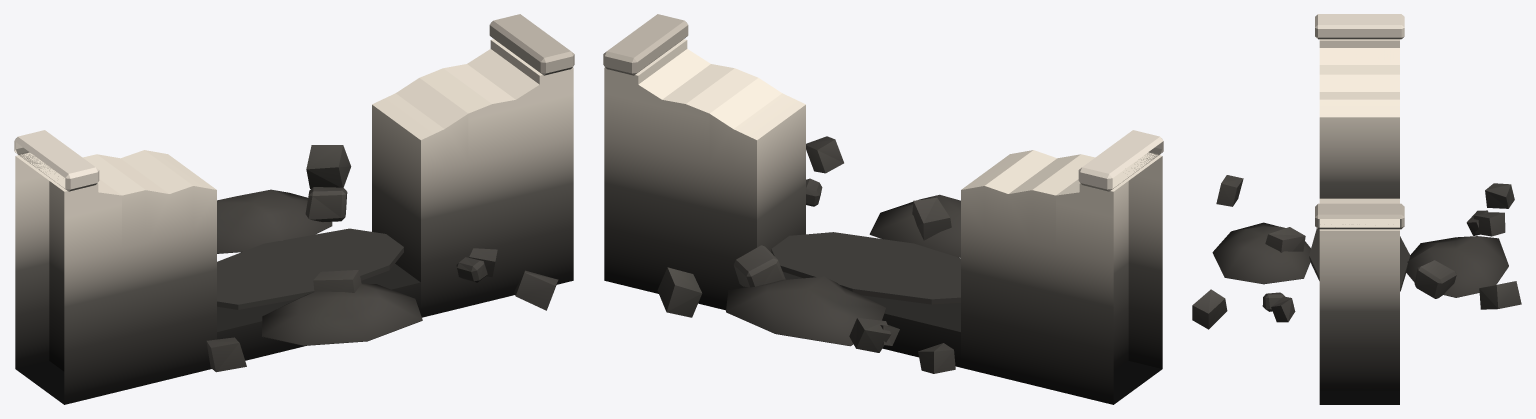
File: SM_VKI_Wall_Sewer_Breach_300_Cut.fbx
3 renders of one model, left to right at view 1: azimuth 30°, elevation 25°; view 2: azimuth 150°, elevation 25°; view 3: azimuth 270°, elevation 25°, orthographic. The views are drawn at different scales.
Parts seen in each view (by area): view 1: SM_VKI_Wall_Sewer_Breach_300_Cut.001; view 2: SM_VKI_Wall_Sewer_Breach_300_Cut.001; view 3: SM_VKI_Wall_Sewer_Breach_300_Cut.001.
Part boxes in pixels (x1,y1,x2,y2): SM_VKI_Wall_Sewer_Breach_300_Cut.001: [14, 14, 574, 404]; SM_VKI_Wall_Sewer_Breach_300_Cut.001: [603, 14, 1163, 404]; SM_VKI_Wall_Sewer_Breach_300_Cut.001: [1192, 14, 1521, 404].
Bounding box in the file's own units: 3 × 1.3 × 2.05.
